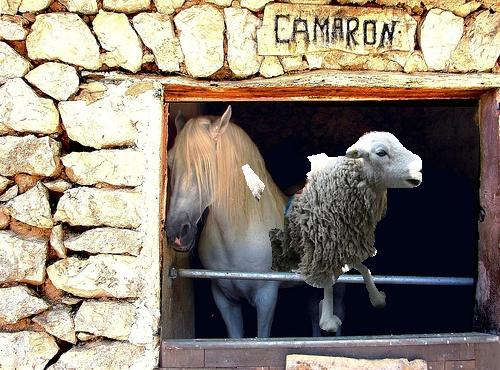tampered: (243, 132, 422, 332)
